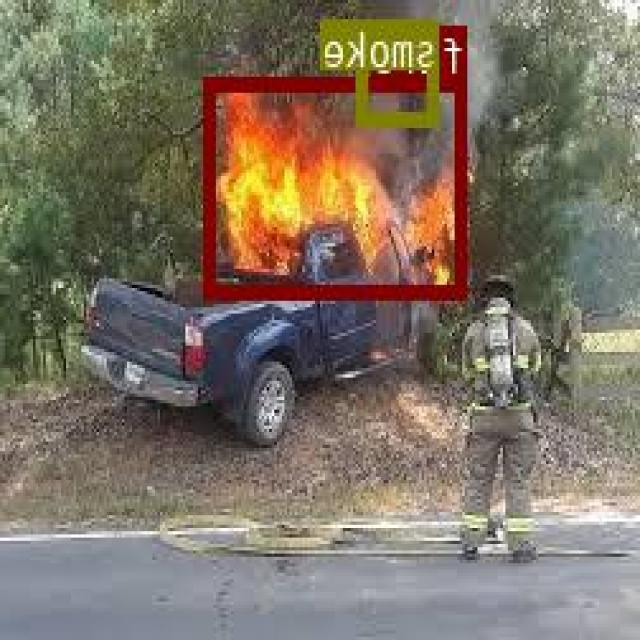fire: (207, 76, 468, 298)
smoke: (361, 19, 440, 124)
